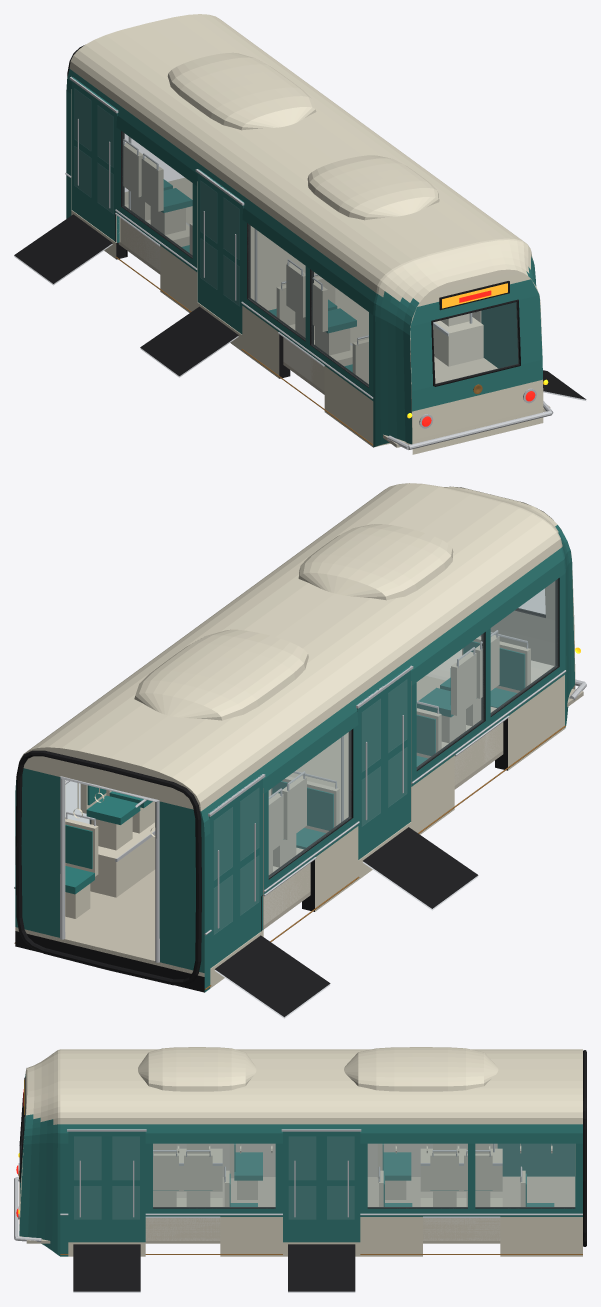
Rendered from carrow_tram_rear.glb.
3 views of the same model, one above another, from view 1: azimuth 30°, elevation 25°; view 2: azimuth 150°, elevation 25°; view 3: azimuth 270°, elevation 25° (orthographic). The views are drawn at different scales.
Parts seen in each view (by area): view 1: tail, fairings, side_L_0, roof_5, roof_0, roof_2, side_L_1, glass_L_1_0, roof_3, glass_rearwindow, floor, glass_L_0_0 (+31 smaller); view 2: endwall_F, fairings, side_L_0, roof_5, roof_0, roof_2, floor, side_L_1, glass_L_1_0, roof_3, glass_L_0_1, glass_L_0_0 (+37 smaller); view 3: side_R_2, fairings, glass_R_1_0, tail, side_R_1, roof_5, roof_0, glass_R_2_0, glass_R_2_1, roof_2, floor, door_R0_a (+40 smaller).
Part boxes in pixels (box(x1,y1,x2,y2)): tail: box(373, 238, 553, 454); fairings: box(167, 52, 439, 220); side_L_0: box(241, 198, 376, 447); roof_5: box(69, 14, 268, 105); roof_0: box(325, 201, 525, 292); roof_2: box(223, 126, 422, 217); side_L_1: box(115, 105, 200, 312); glass_L_1_0: box(122, 132, 192, 257); roof_3: box(172, 89, 370, 180); glass_rearwindow: box(433, 302, 518, 383); floor: box(118, 177, 550, 447); glass_L_0_0: box(311, 270, 368, 386); endwall_F: box(15, 747, 204, 992); fairings: box(134, 524, 453, 720); side_L_0: box(408, 548, 566, 834); roof_5: box(26, 703, 260, 811); roof_0: box(326, 483, 561, 591); roof_2: box(207, 571, 440, 679); floor: box(25, 676, 583, 975); side_L_1: box(260, 699, 359, 941); glass_L_1_0: box(269, 730, 351, 877); roof_3: box(145, 615, 380, 723); glass_L_0_1: box(417, 633, 484, 769); glass_L_0_0: box(491, 579, 558, 715); side_R_2: box(360, 1124, 582, 1256); fairings: box(138, 1047, 498, 1091); glass_R_1_0: box(153, 1144, 275, 1207); tail: box(14, 1049, 60, 1256); side_R_1: box(145, 1124, 282, 1256); roof_5: box(496, 1049, 582, 1124); roof_0: box(60, 1049, 147, 1124); glass_R_2_0: box(368, 1144, 467, 1207); glass_R_2_1: box(475, 1144, 574, 1207); roof_2: box(234, 1049, 321, 1124); floor: box(26, 1177, 575, 1243); door_R0_a: box(68, 1129, 107, 1242).
Bounding box in the file's own units: 4.45 × 3.1 × 9.21.
